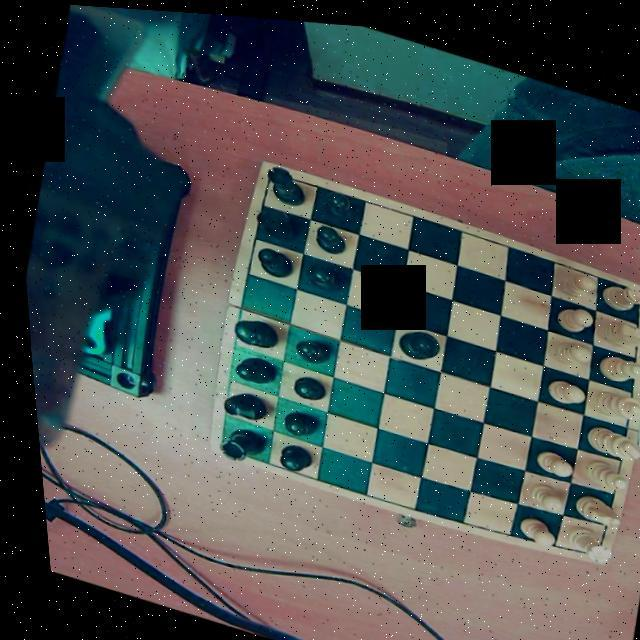chess-table-corners: (202, 426, 232, 455), (254, 158, 282, 184), (576, 530, 602, 554), (616, 270, 640, 294)
